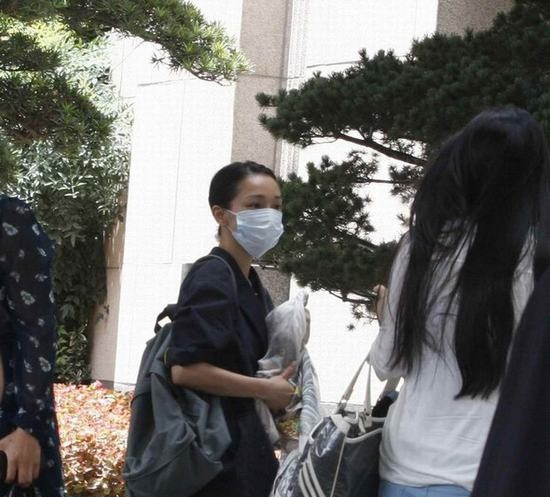face_mask: (233, 178, 281, 253)
